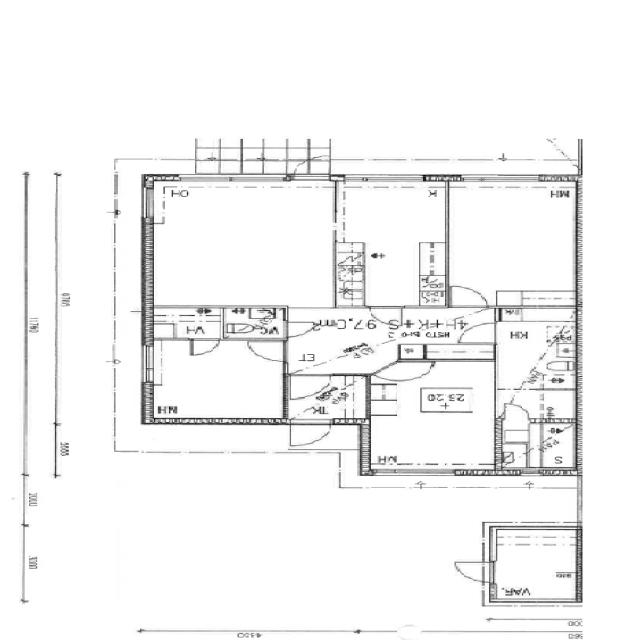door: (224, 307, 289, 340), (286, 418, 335, 448), (286, 373, 333, 402), (381, 359, 437, 382), (286, 156, 334, 182), (454, 321, 502, 346), (446, 284, 491, 310), (244, 339, 290, 363), (366, 304, 407, 328), (453, 560, 494, 583), (279, 318, 319, 339), (187, 337, 220, 357), (501, 402, 532, 420), (395, 623, 424, 640)
window: (170, 173, 296, 189), (456, 173, 550, 188), (341, 172, 429, 188), (136, 342, 160, 386), (136, 185, 162, 225), (377, 467, 460, 479), (518, 469, 542, 479)
zone: (147, 182, 340, 310), (446, 182, 579, 308), (364, 361, 498, 474), (335, 184, 452, 308), (144, 337, 287, 422), (282, 308, 413, 376), (494, 308, 578, 391), (491, 533, 578, 604), (280, 374, 370, 421), (516, 420, 578, 471), (502, 389, 578, 421), (147, 310, 224, 338), (225, 307, 287, 340)
